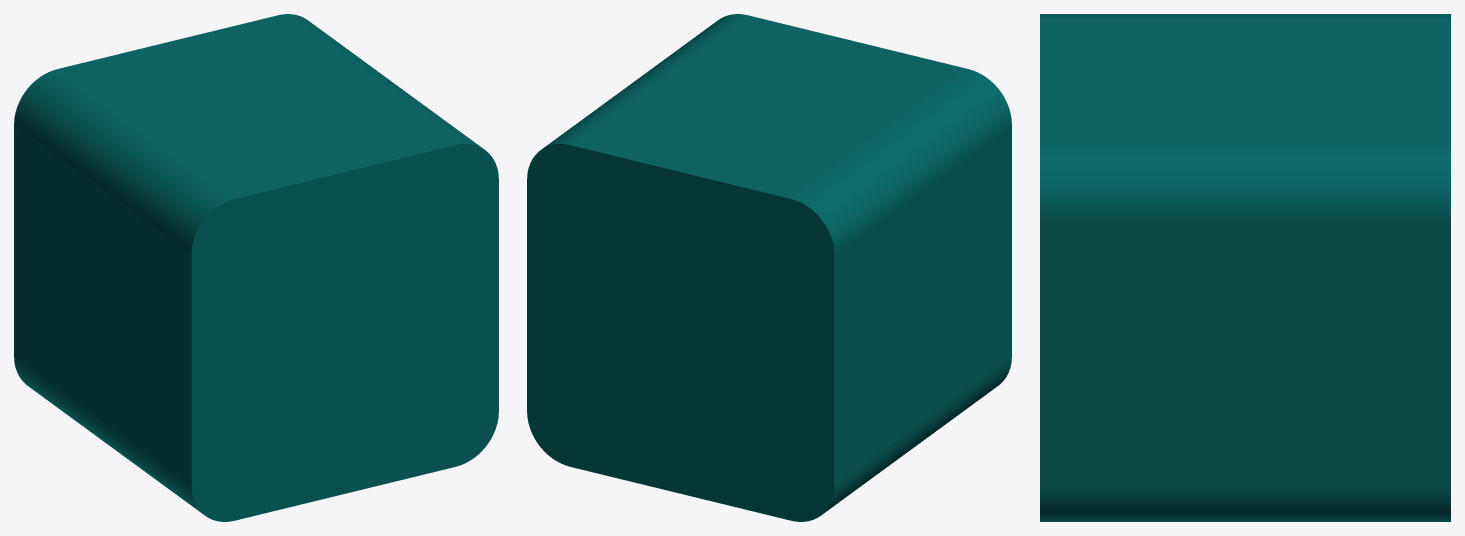
Rendered from correect.fbx.
3 views of the same model, side by side, from view 1: azimuth 30°, elevation 25°; view 2: azimuth 150°, elevation 25°; view 3: azimuth 270°, elevation 25° (orthographic). The views are drawn at different scales.
Visible parts, largest first — view 1: Group1; view 2: Group1; view 3: Group1.
Part boxes in pixels (x1=…): Group1: x1=14, y1=14, x2=498, y2=521; Group1: x1=527, y1=14, x2=1011, y2=521; Group1: x1=1040, y1=14, x2=1450, y2=521.
Bounding box in the file's own units: 100 × 100 × 100.
